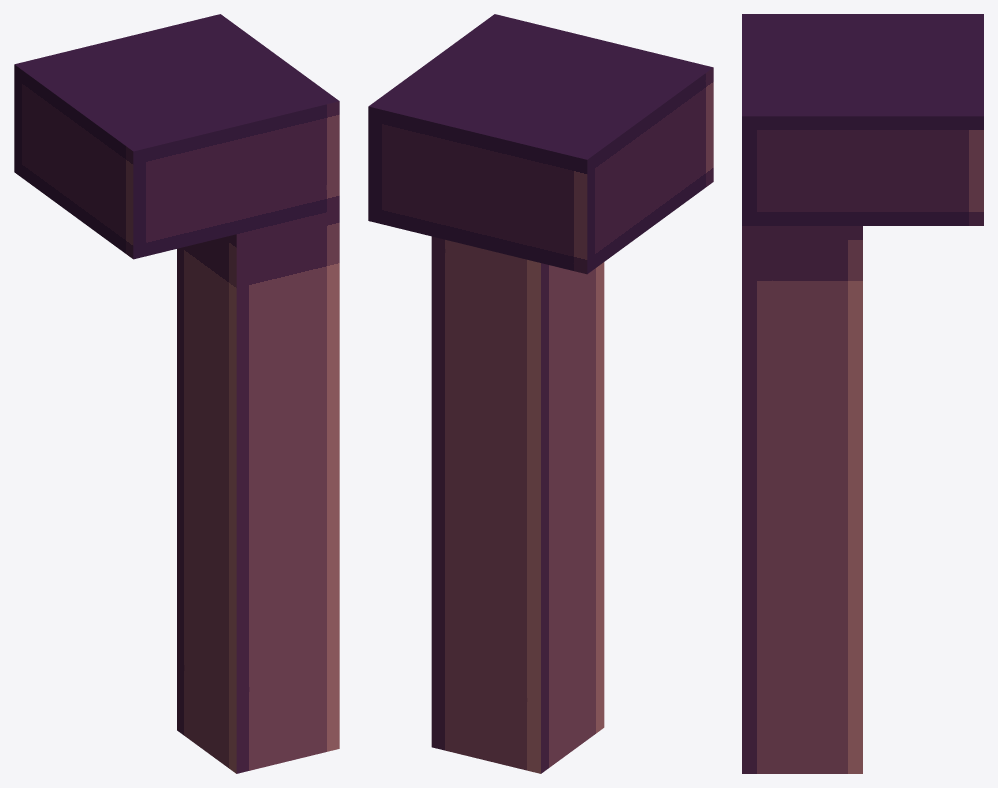
File: waterfall_support_cao.fezao.glb
3 renders of one model, left to right at view 1: azimuth 30°, elevation 25°; view 2: azimuth 150°, elevation 25°; view 3: azimuth 270°, elevation 25°, orthographic. The views are drawn at different scales.
Parts seen in each view (by area): view 1: WATERFALL_SUPPORT_CAO; view 2: WATERFALL_SUPPORT_CAO; view 3: WATERFALL_SUPPORT_CAO.
Part boxes in pixels (bbox=[...]): WATERFALL_SUPPORT_CAO: bbox=[14, 14, 339, 773]; WATERFALL_SUPPORT_CAO: bbox=[368, 14, 713, 773]; WATERFALL_SUPPORT_CAO: bbox=[742, 14, 983, 773].
Size of the model in its own units: 1 by 3 by 1.
1 material, 1 textured.
